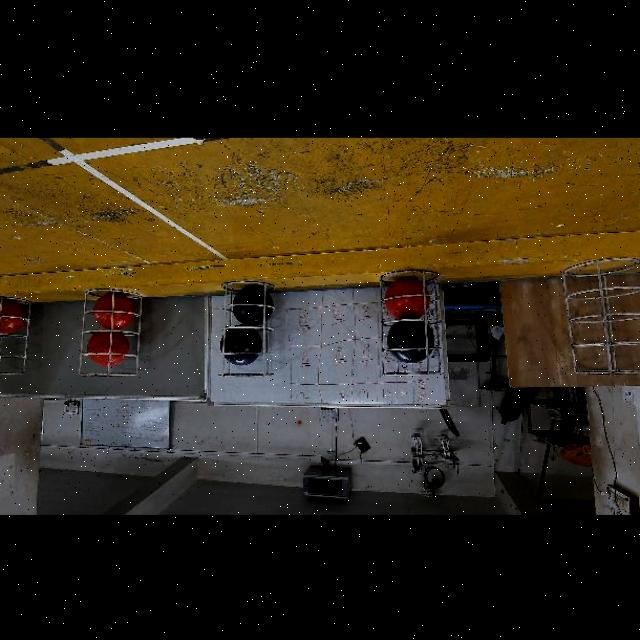P: (386, 321, 436, 364), (232, 284, 274, 326), (220, 327, 263, 365)
R: (385, 276, 425, 319), (94, 292, 136, 329), (86, 332, 128, 365), (0, 300, 24, 333)
S: (556, 252, 640, 381), (72, 286, 152, 382), (376, 276, 444, 380), (211, 283, 273, 381), (1, 284, 32, 380)
